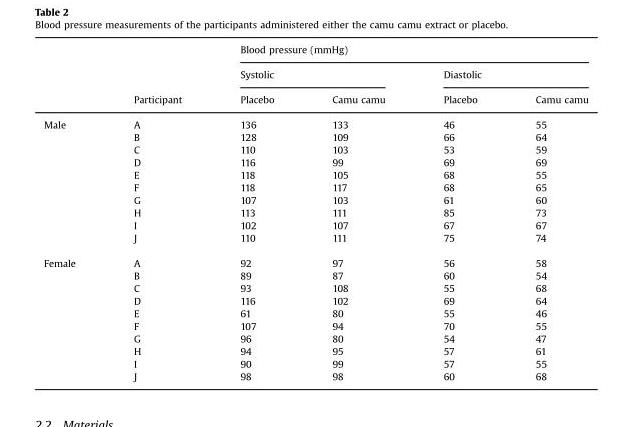table: (43, 43, 587, 381)
table column: (302, 43, 413, 381), (103, 43, 210, 381), (210, 43, 302, 381), (413, 43, 505, 381), (505, 43, 587, 381), (43, 43, 103, 381)
table column header: (43, 43, 587, 111)
table row: (43, 61, 587, 86), (43, 86, 587, 111), (43, 111, 587, 130), (43, 249, 587, 268), (43, 43, 587, 61), (43, 231, 587, 249), (43, 142, 587, 155), (43, 155, 587, 168), (43, 180, 587, 193), (43, 205, 587, 218), (43, 218, 587, 231), (43, 268, 587, 281), (43, 293, 587, 306), (43, 306, 587, 319), (43, 331, 587, 344), (43, 356, 587, 369), (43, 130, 587, 142), (43, 168, 587, 180), (43, 193, 587, 205), (43, 281, 587, 293), (43, 319, 587, 331), (43, 344, 587, 356), (43, 369, 587, 381)
table spanning cell: (43, 111, 103, 249), (43, 249, 103, 381), (103, 43, 210, 111), (210, 43, 587, 61), (210, 61, 413, 86), (413, 61, 587, 86)
